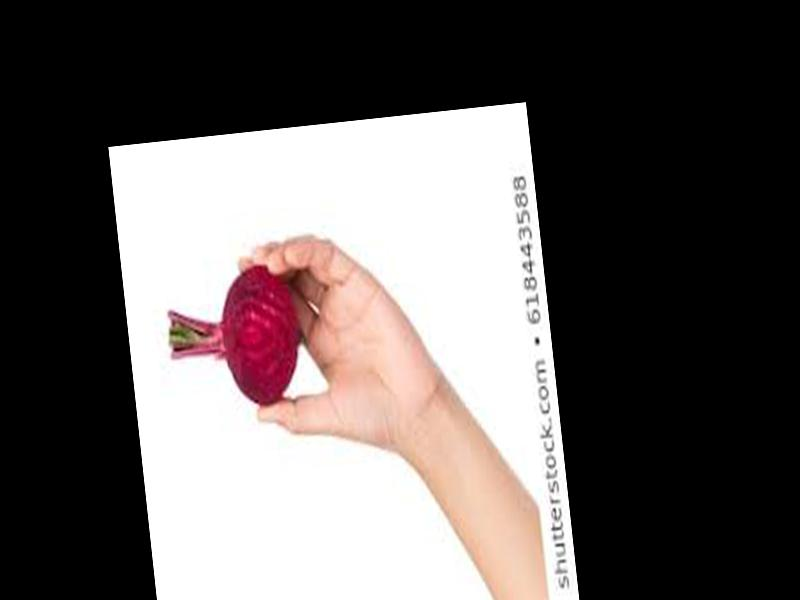Beet: (161, 258, 307, 414)
